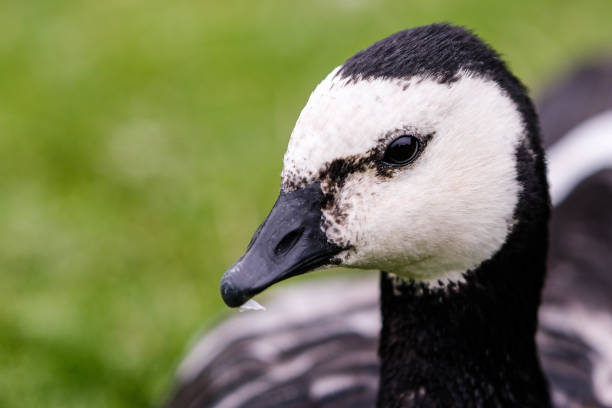goose: (219, 18, 571, 408)
